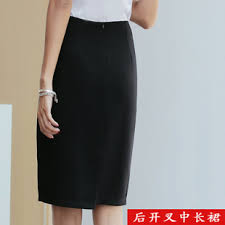F_tailored skirt: (30, 8, 138, 210)
